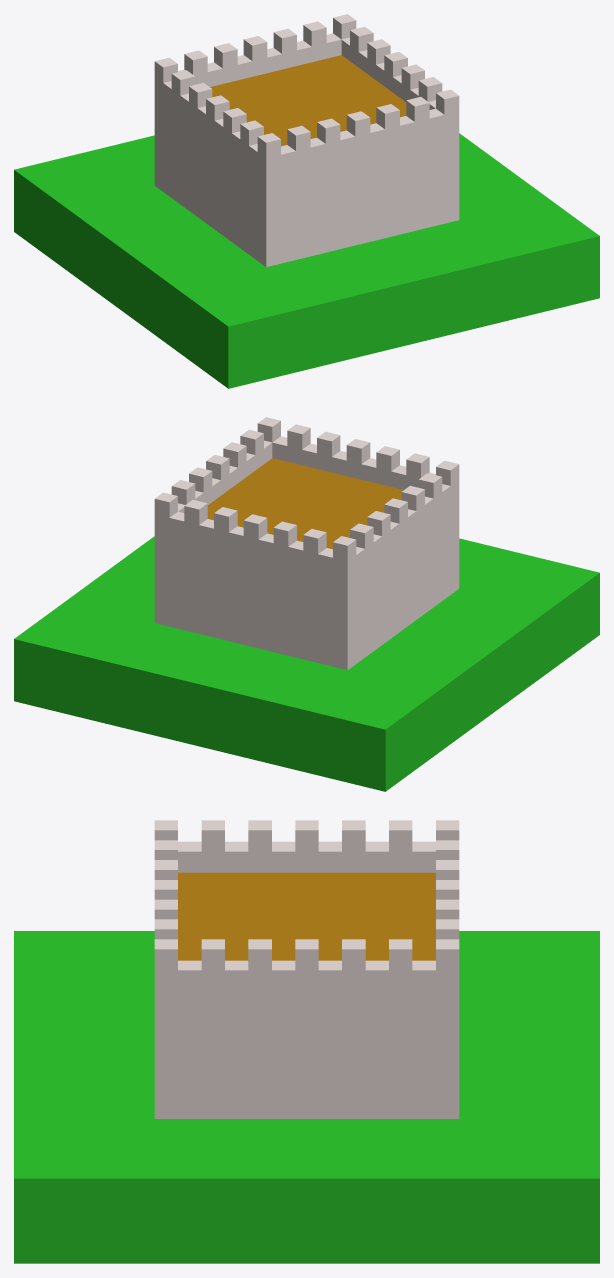
Rendered from wall.obj.
3 renders of one model, top to bottom at view 1: azimuth 30°, elevation 25°; view 2: azimuth 150°, elevation 25°; view 3: azimuth 270°, elevation 25°, orthographic. The views are drawn at different scales.
Size of the model in its own units: 2.5 by 1.2 by 2.5.
Materials: 1 (1 with a texture image).
